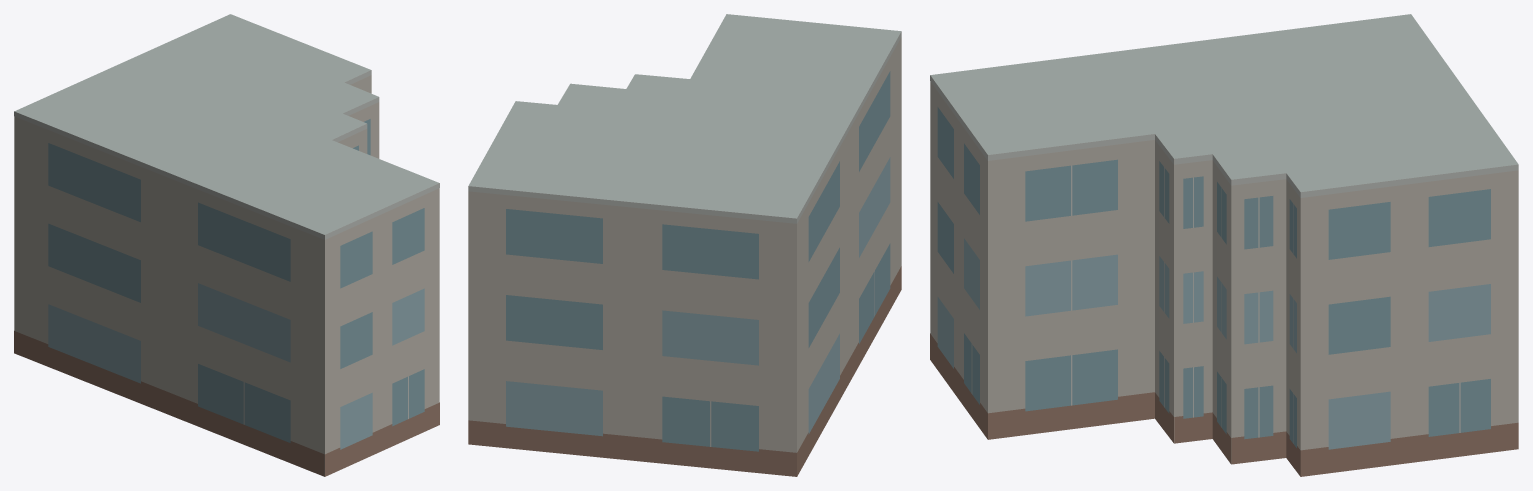
Rendered from survey-upis-32919552.glb.
The picture shows the model from 3 angles, left to right: view 1: azimuth 30°, elevation 25°; view 2: azimuth 150°, elevation 25°; view 3: azimuth 270°, elevation 25°; orthographic projection. The views are drawn at different scales.
Parts seen in each view (by area): view 1: survey-upis-32919552.tmp; view 2: survey-upis-32919552.tmp; view 3: survey-upis-32919552.tmp.
Part boxes in pixels (x1,y1,x2,y2): survey-upis-32919552.tmp: (14, 14, 439, 476); survey-upis-32919552.tmp: (468, 14, 901, 476); survey-upis-32919552.tmp: (930, 14, 1518, 476).
Bounding box in the file's own units: 15.99 × 11.9 × 22.31.
